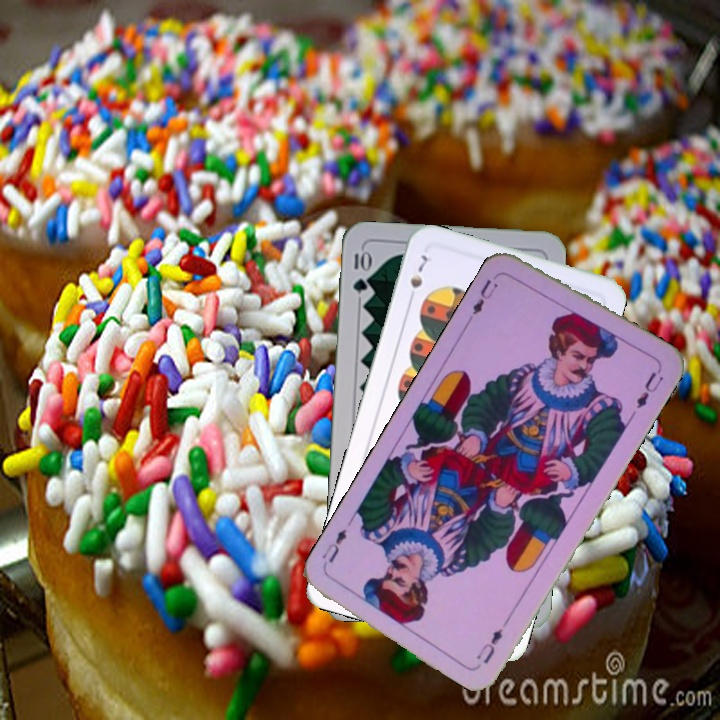EU: (465, 275, 501, 323), (473, 624, 505, 667)
G10: (349, 246, 372, 296)
S7: (404, 250, 430, 305)
